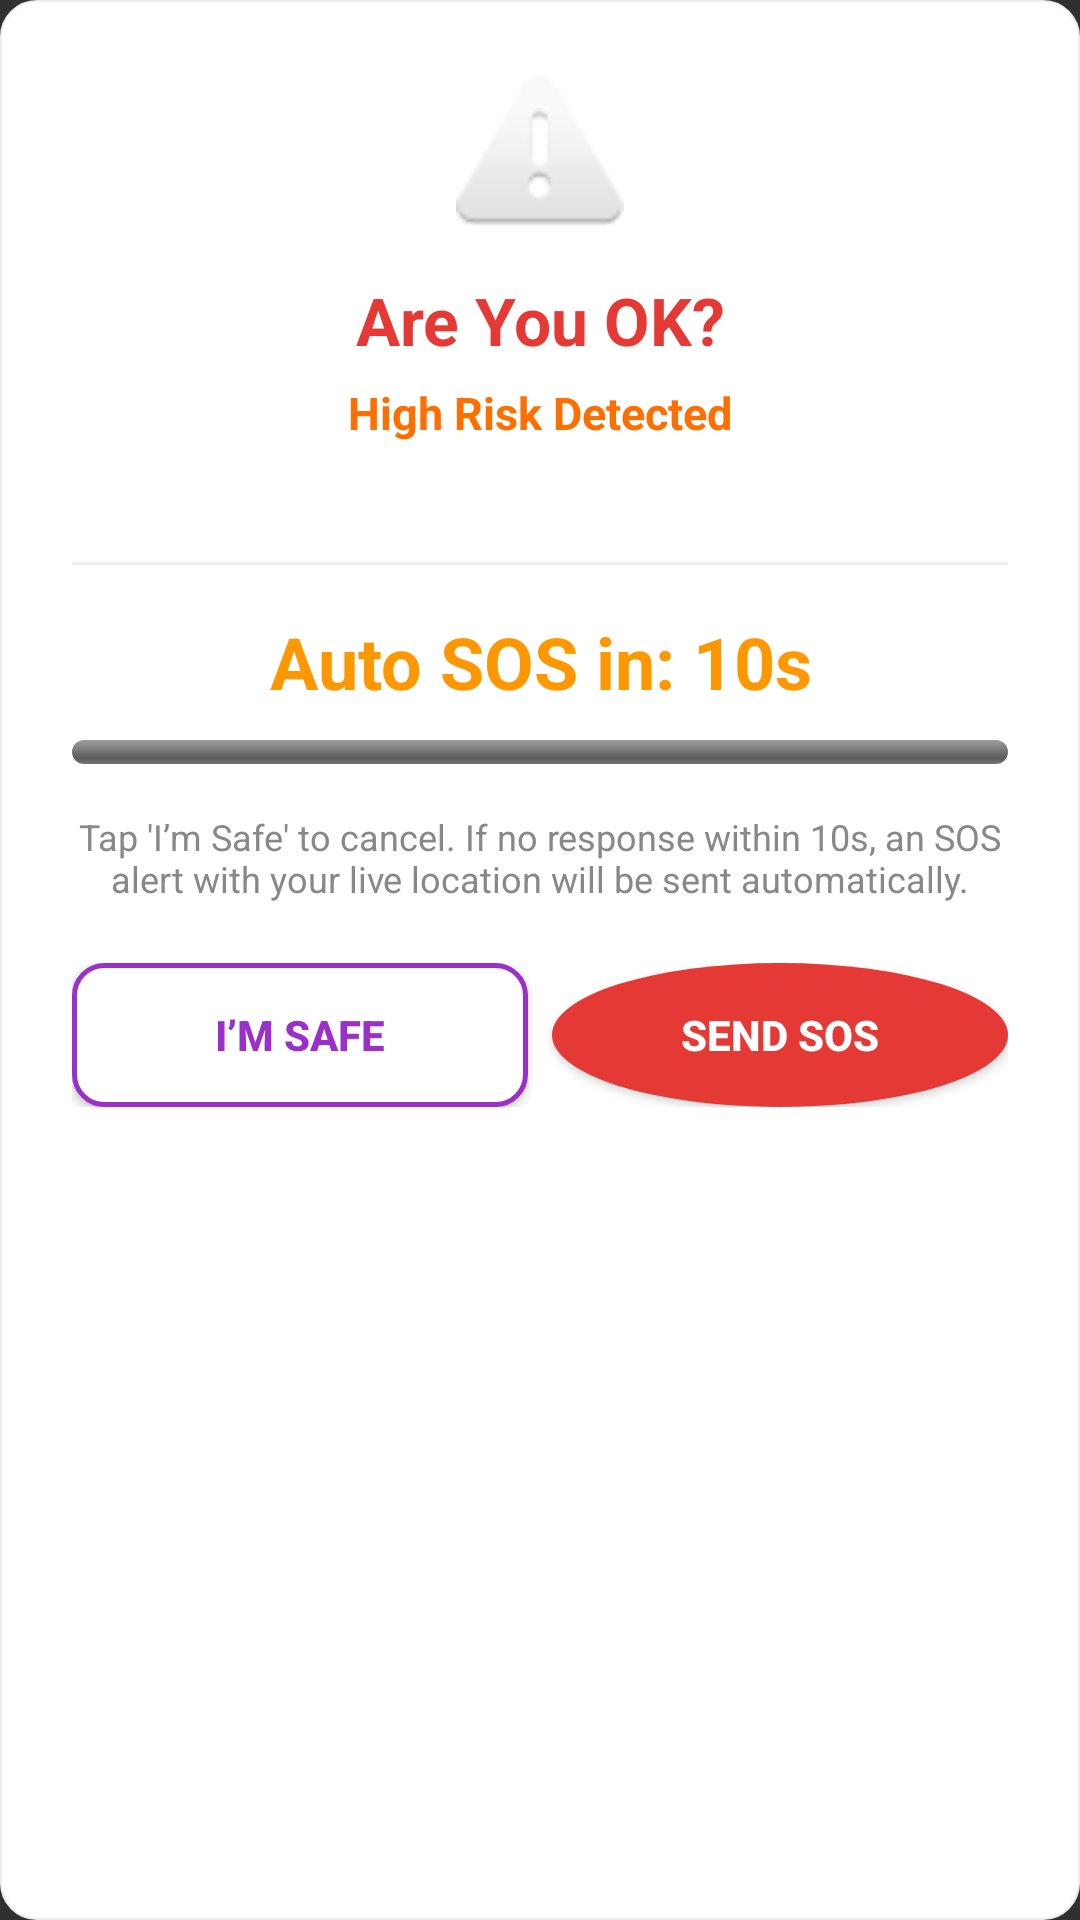

Icon click points for this 1080 x 1920 phone screenshot, format point (x, y):
Warning: point (540, 167)
